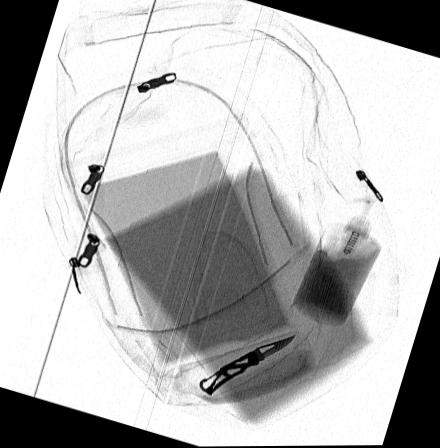Knife: (196, 334, 296, 398)
